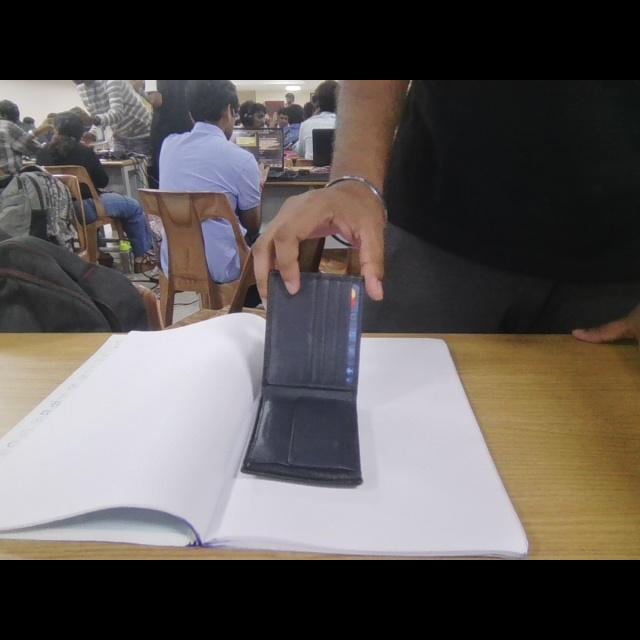wallet: (237, 282, 369, 492)
